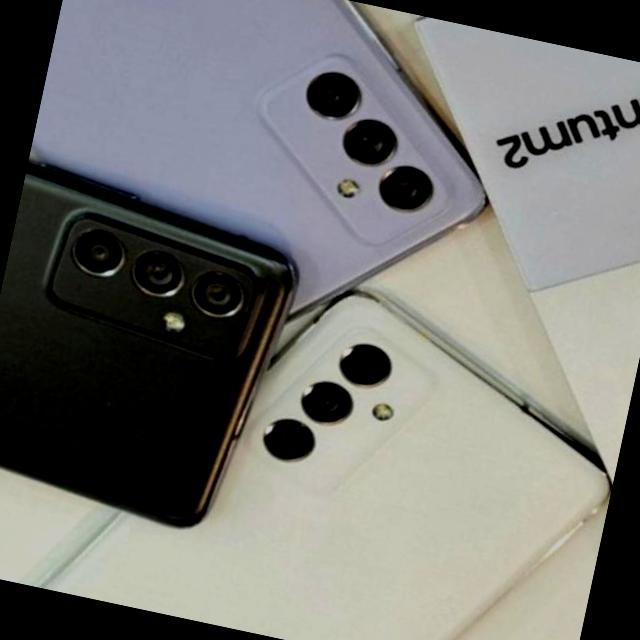lens_back: (327, 326, 414, 402), (286, 369, 365, 445), (250, 406, 330, 480), (365, 153, 446, 226), (175, 258, 252, 334), (121, 236, 198, 312), (295, 61, 373, 130), (64, 220, 130, 300), (334, 107, 405, 171)
phone: (0, 167, 312, 548)
